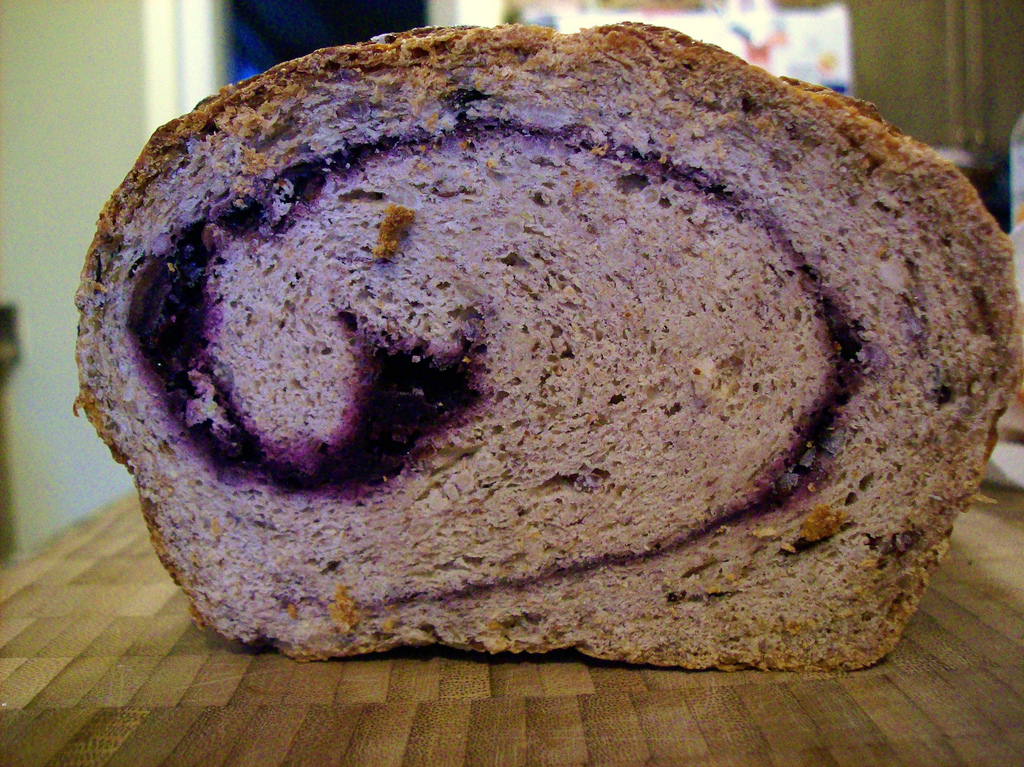slice of bread: (55, 37, 1016, 679)
